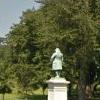Statue: (43, 40, 73, 85)
